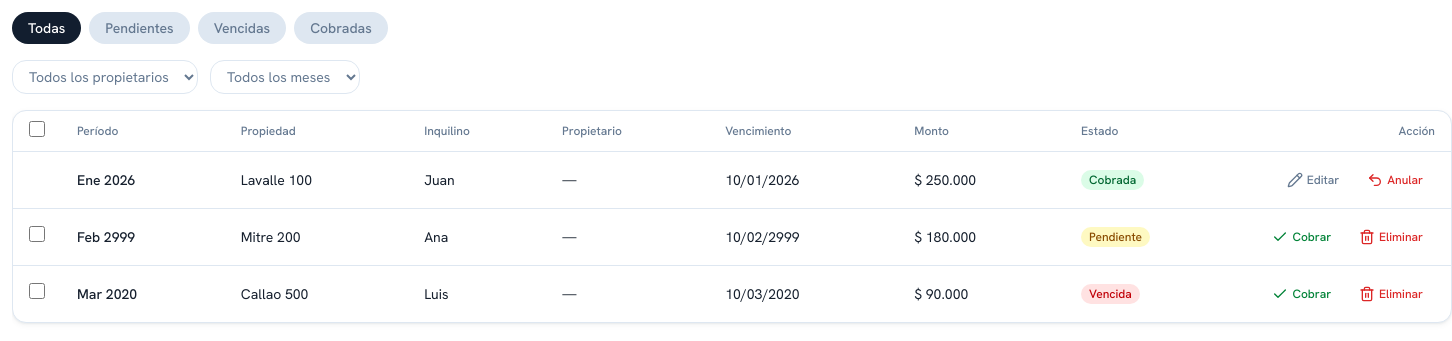
Test: PaymentsList › filters to only overdue installments
Click the button "Vencidas": (242, 28) [198,12,286,44]
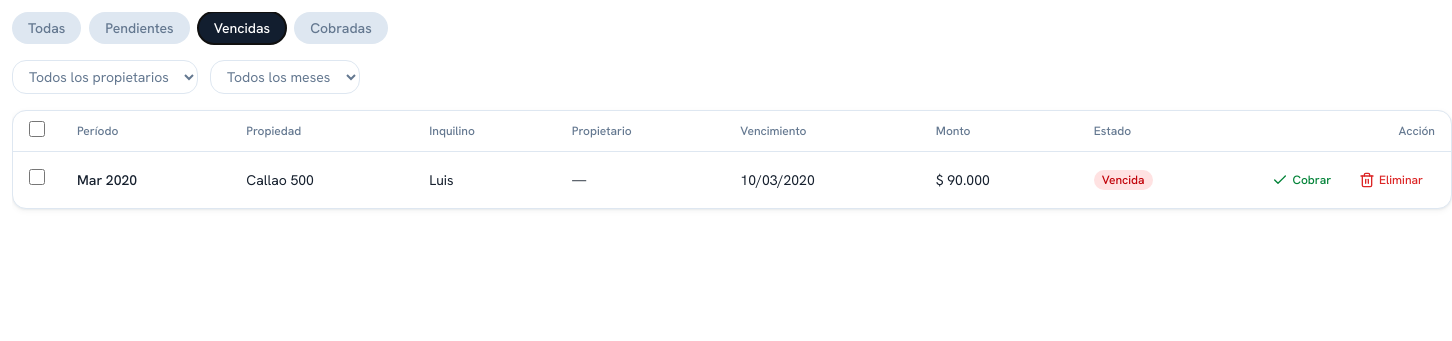
Expected: the text "Callao 500" is shown, [230,151,413,208]
Now the text "Lavalle 100" is gone
Now the text "Mitre 200" is gone
